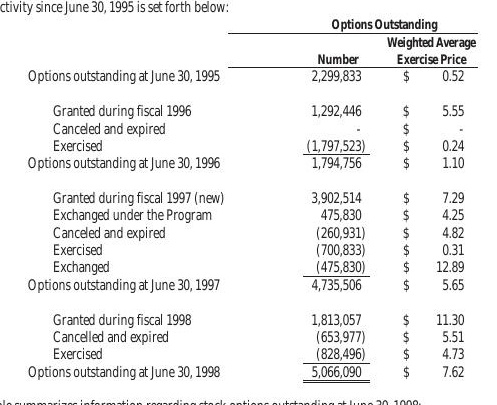table: (0, 0, 497, 405)
